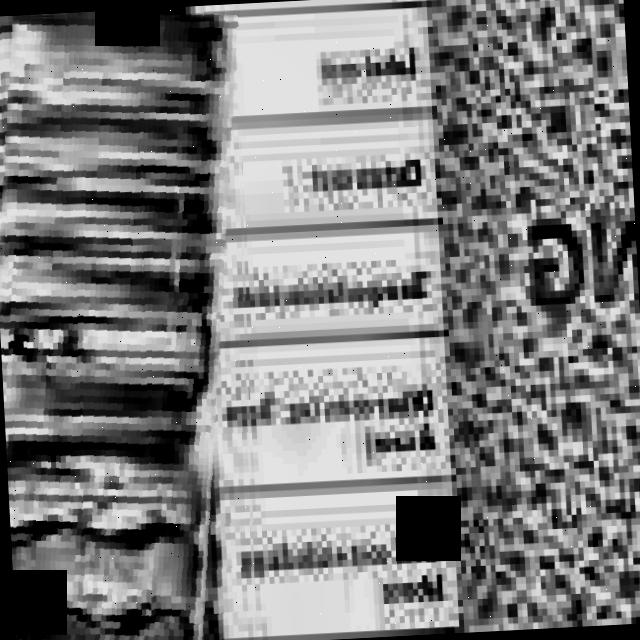bottle: (0, 12, 238, 640)
